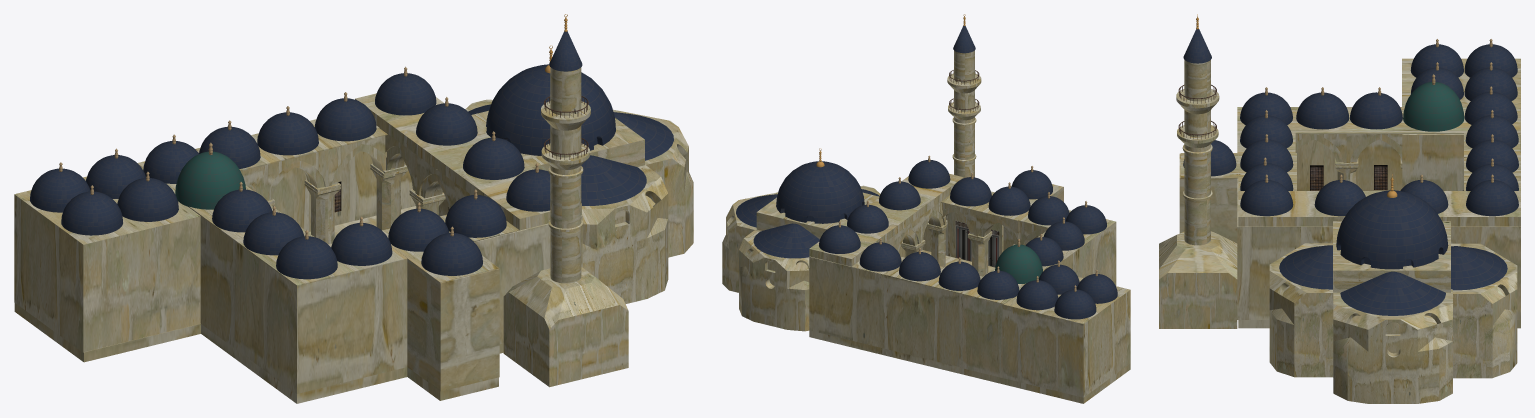
File: FINALMOSQUEEE.fbx
The picture shows the model from 3 angles, left to right: view 1: azimuth 30°, elevation 25°; view 2: azimuth 150°, elevation 25°; view 3: azimuth 270°, elevation 25°; orthographic projection. The views are drawn at different scales.
Parts seen in each view (by area): view 1: Cylinder.002, Cylinder.005, Cylinder.010, Cylinder.001, Cylinder.008, Cylinder.007, Cylinder.004; view 2: Cylinder.002, Cylinder.005, Cylinder.010, Cylinder.001, Cylinder.008, Cylinder.007, Plane, Cylinder.004; view 3: Cylinder.002, Cylinder.005, Cylinder.001, Cylinder.010, Cylinder.007, Cylinder.004, Cylinder.003, ClosedWindow.001, ClosedWindow.
Part boxes in pixels (x1,y1,x2,y2): Cylinder.002: [200, 67, 693, 393]; Cylinder.005: [30, 31, 673, 279]; Cylinder.010: [14, 176, 252, 352]; Cylinder.001: [137, 93, 581, 286]; Cylinder.008: [14, 206, 502, 403]; Cylinder.007: [175, 151, 245, 209]; Cylinder.004: [59, 66, 538, 239]; Cylinder.002: [722, 50, 1116, 366]; Cylinder.005: [736, 26, 1117, 319]; Cylinder.010: [959, 268, 1130, 397]; Cylinder.001: [809, 173, 1115, 304]; Cylinder.008: [809, 250, 1130, 403]; Cylinder.007: [995, 244, 1042, 283]; Plane: [955, 221, 999, 266]; Cylinder.004: [838, 155, 1097, 291]; Cylinder.002: [1159, 60, 1520, 403]; Cylinder.005: [1183, 29, 1518, 315]; Cylinder.001: [1180, 107, 1520, 226]; Cylinder.010: [1402, 58, 1520, 190]; Cylinder.007: [1403, 82, 1464, 131]; Cylinder.004: [1263, 39, 1493, 182]; Cylinder.003: [1178, 84, 1216, 139]; ClosedWindow.001: [1310, 165, 1323, 190]; ClosedWindow: [1374, 165, 1387, 189].
Bounding box in the file's own units: 4074 × 2307 × 2539.
